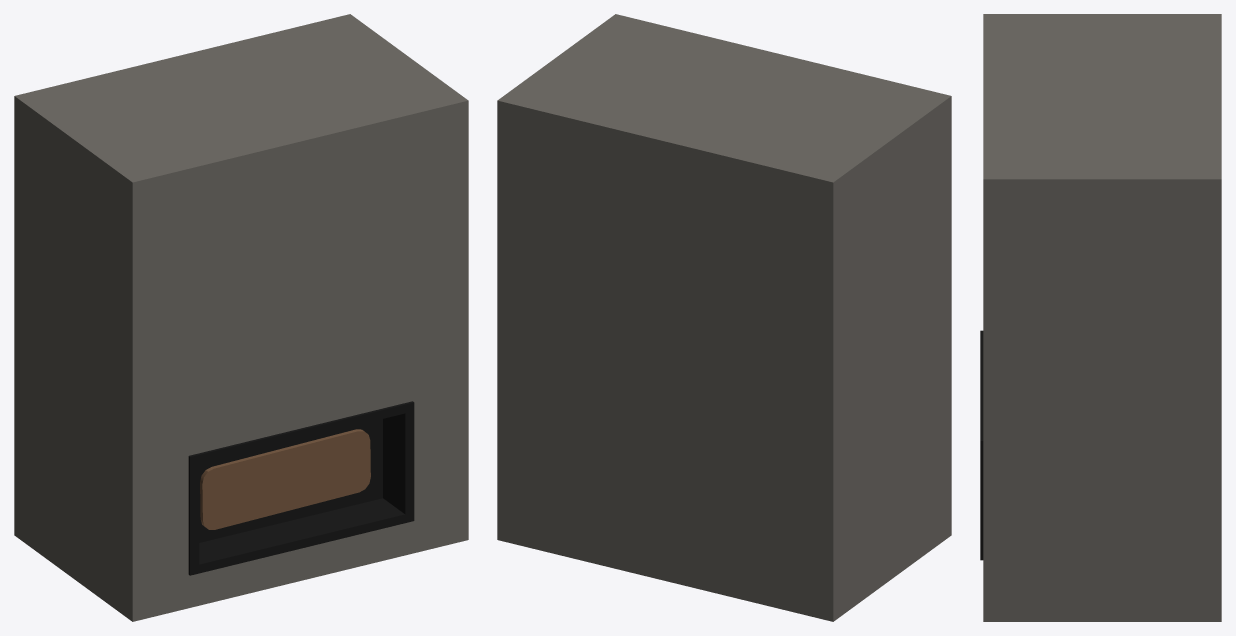
The model's file is Neon_Shop_Door.fbx.
3 renders of one model, left to right at view 1: azimuth 30°, elevation 25°; view 2: azimuth 150°, elevation 25°; view 3: azimuth 270°, elevation 25°, orthographic.
Visible parts, largest first — view 1: Neon_Shop_Fenster, pCube9; view 2: Neon_Shop_Fenster; view 3: Neon_Shop_Fenster.
Part boxes in pixels (<box>): Neon_Shop_Fenster: <box>14,14,468,621</box>; pCube9: <box>200,429,370,529</box>; Neon_Shop_Fenster: <box>497,14,951,621</box>; Neon_Shop_Fenster: <box>980,14,1221,621</box>.
Size of the model in its own units: 8 by 10 by 4.94.
